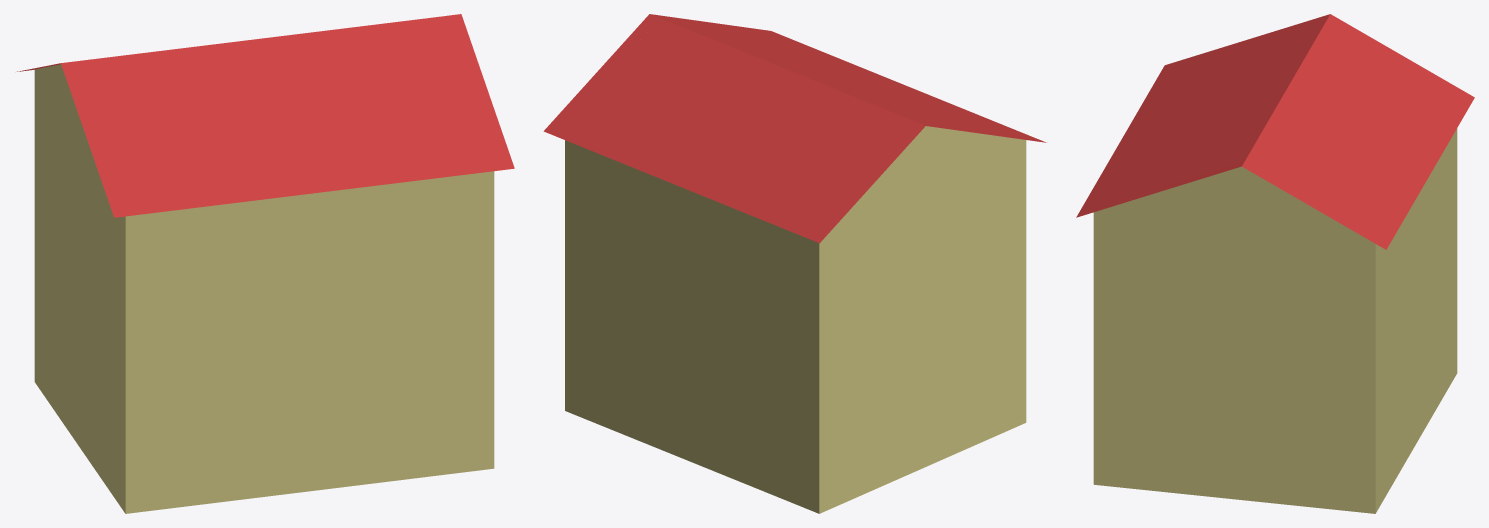
3 views of the same model, side by side, from view 1: azimuth 30°, elevation 25°; view 2: azimuth 150°, elevation 25°; view 3: azimuth 270°, elevation 25° (orthographic). The views are drawn at different scales.
Bounding box in the file's own units: 7.43 × 6.79 × 6.38.
